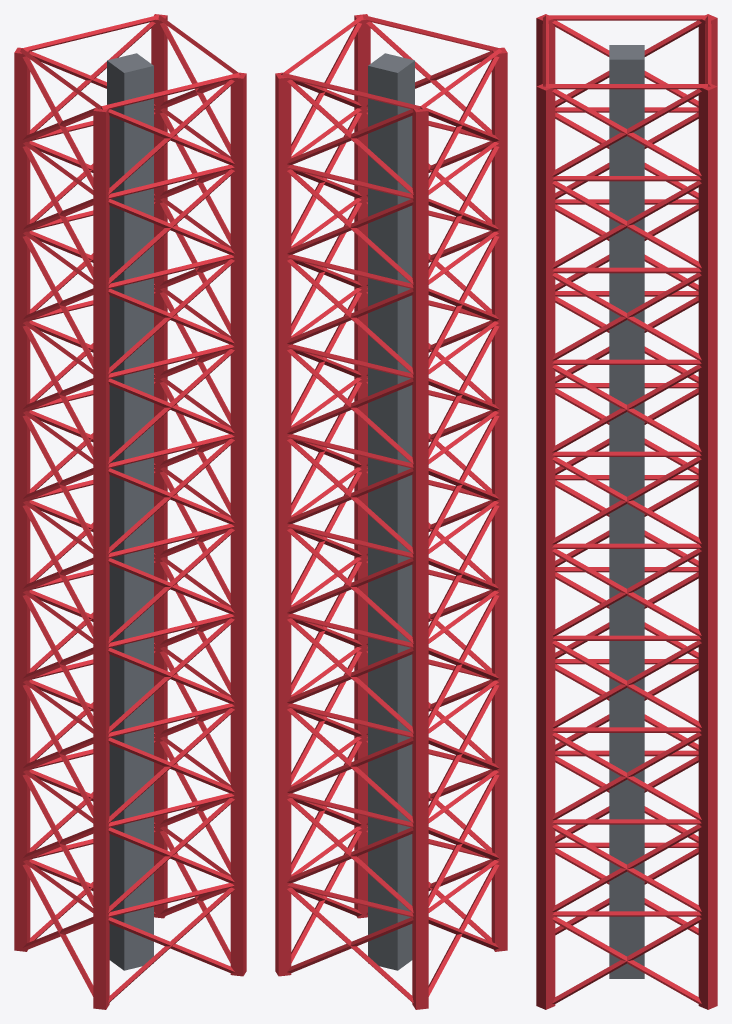
Rendered from mid-prebuilt.fbx.
3 views of the same model, side by side, from view 1: azimuth 30°, elevation 25°; view 2: azimuth 150°, elevation 25°; view 3: azimuth 270°, elevation 25° (orthographic). The views are drawn at different scales.
Parts seen in each view (by area): view 1: landmark-great_tower/0/mid-prebuilt; view 2: landmark-great_tower/0/mid-prebuilt; view 3: landmark-great_tower/0/mid-prebuilt.
Part boxes in pixels (bbox=[...]): landmark-great_tower/0/mid-prebuilt: bbox=[14, 14, 246, 1009]; landmark-great_tower/0/mid-prebuilt: bbox=[275, 14, 507, 1009]; landmark-great_tower/0/mid-prebuilt: bbox=[536, 14, 717, 1009].
Size of the model in its own units: 13.4 by 75.42 by 13.4.
